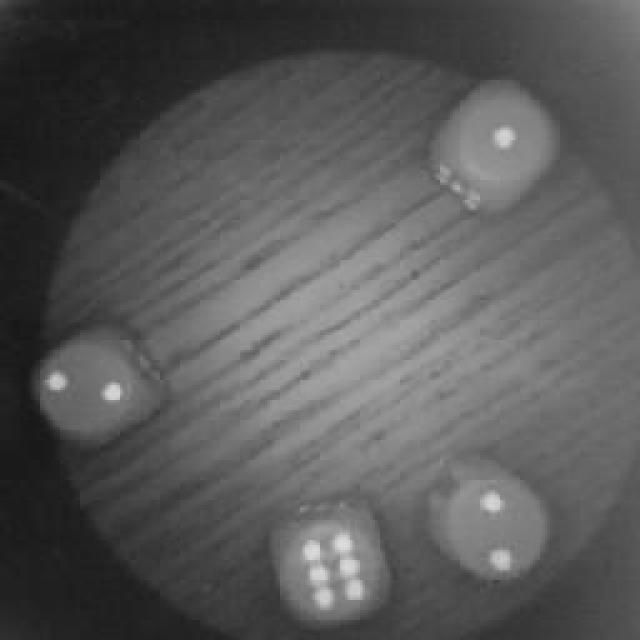dice_1: (432, 72, 562, 212)
dice_2: (422, 455, 560, 595), (33, 325, 165, 455)
dice_6: (265, 505, 393, 633)
